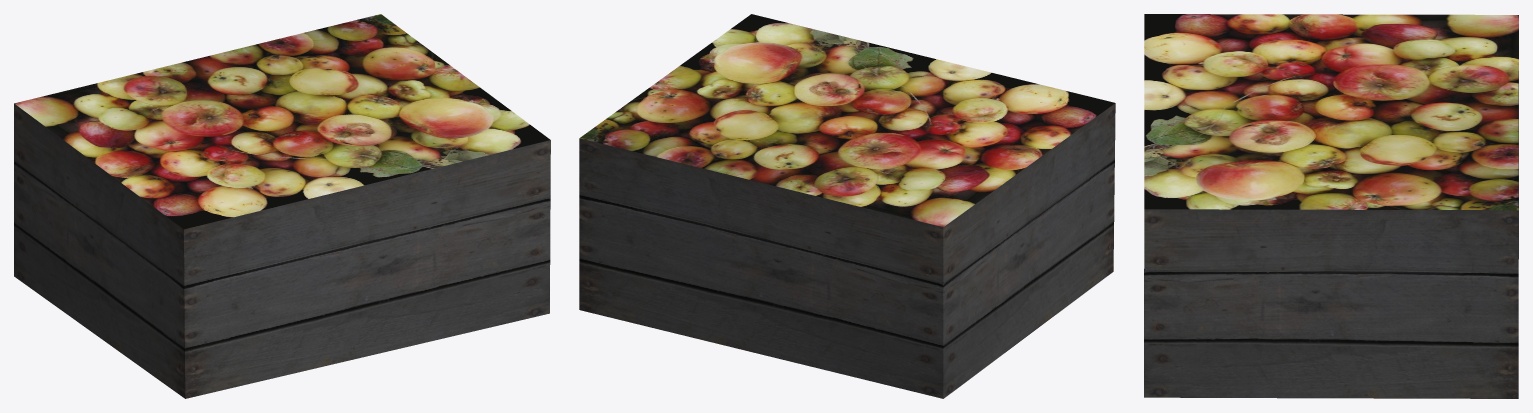
Rendered from fruitbox01_LOD03.fbx.
The picture shows the model from 3 angles, left to right: view 1: azimuth 30°, elevation 25°; view 2: azimuth 150°, elevation 25°; view 3: azimuth 270°, elevation 25°; orthographic projection. The views are drawn at different scales.
Visible parts, largest first — view 1: Mesh Object; view 2: Mesh Object; view 3: Mesh Object.
Part boxes in pixels (x1=…): Mesh Object: x1=14, y1=14, x2=550, y2=398; Mesh Object: x1=579, y1=14, x2=1115, y2=398; Mesh Object: x1=1144, y1=14, x2=1518, y2=398.
Bounding box in the file's own units: 0.6278 × 0.2819 × 0.5067.
